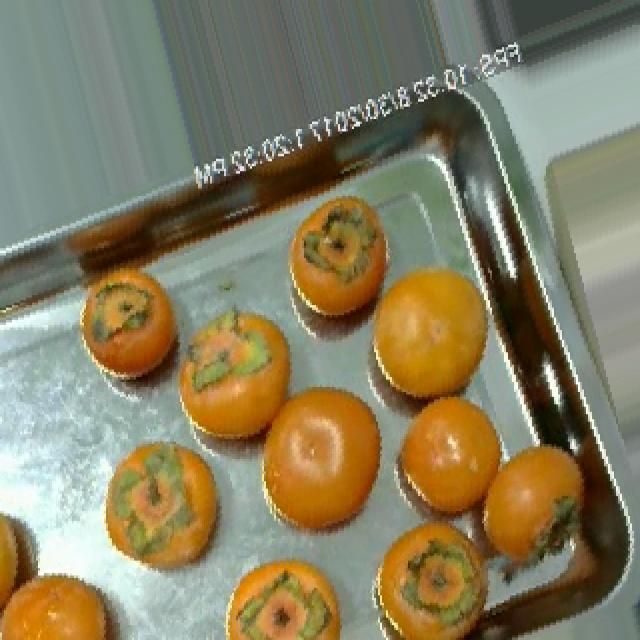Fruit: (348, 238, 518, 434), (238, 364, 400, 560), (272, 176, 414, 365), (90, 422, 236, 590), (380, 375, 520, 548), (464, 424, 596, 598), (68, 260, 194, 400), (216, 541, 354, 640), (0, 555, 134, 640)
